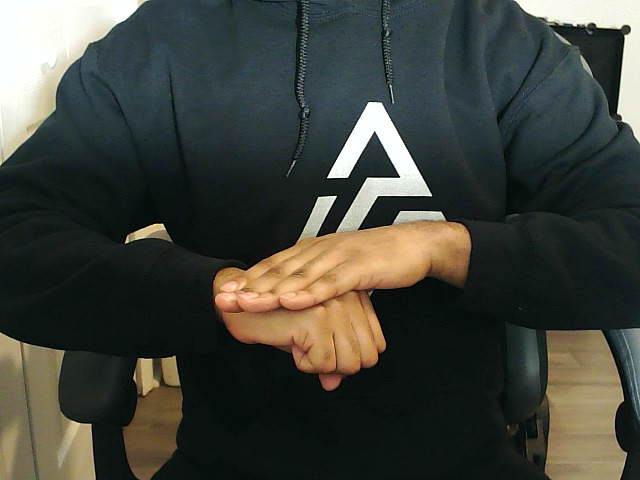Dog: (214, 220, 469, 392)
